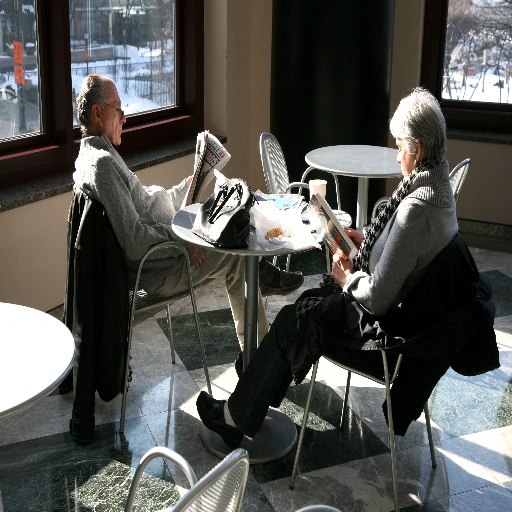hand: (329, 252, 354, 288), (186, 244, 207, 270), (344, 227, 365, 251), (184, 174, 194, 186)
